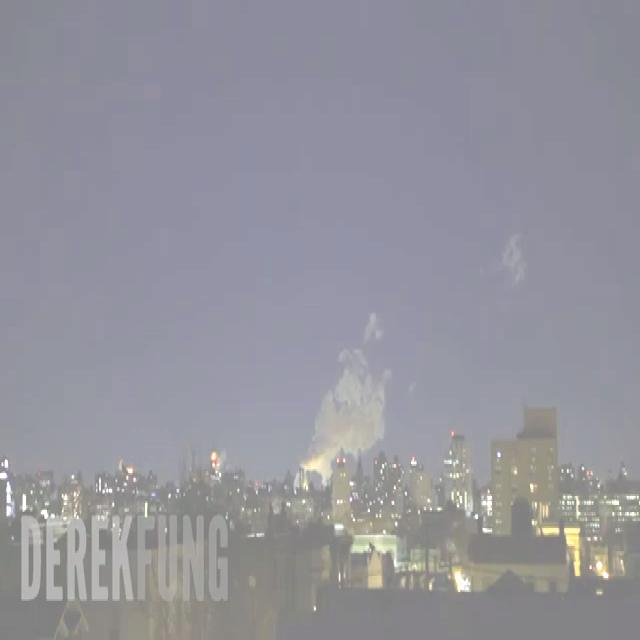smoke: (296, 311, 392, 480)
